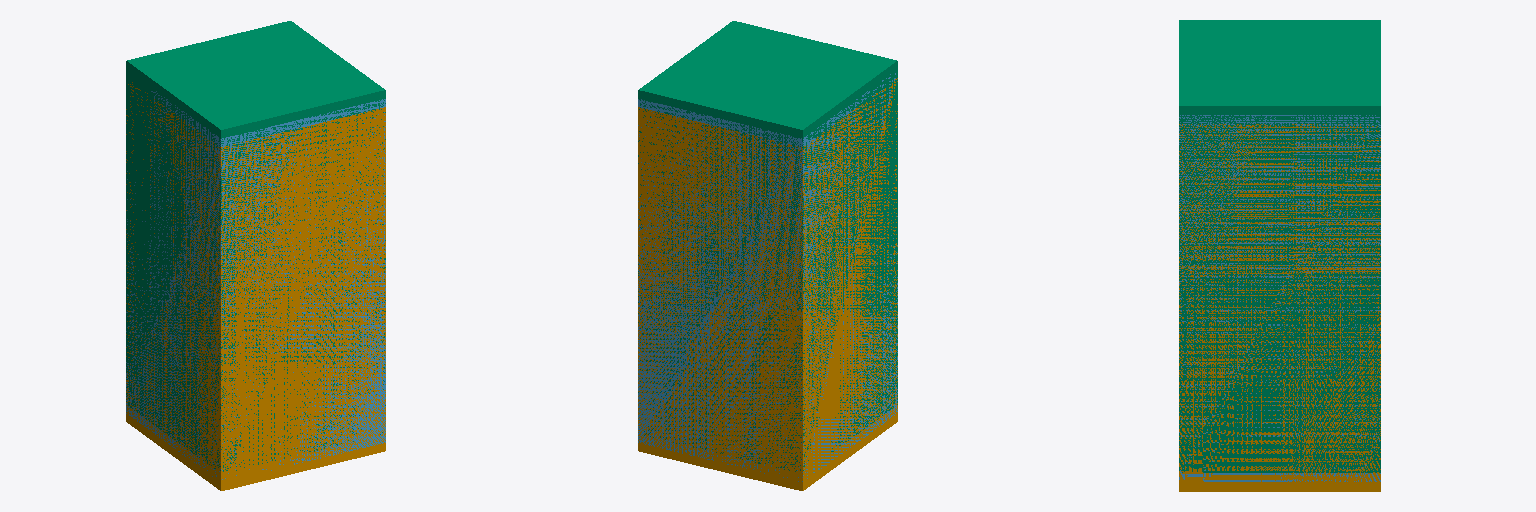
URDF robot description (simple_box):
<robot name="simple_box">

  <link name="base_link">
    <inertial>
      <origin xyz="2 0 0" />
      <mass value="1.0" />
      <inertia  ixx="1.0" ixy="0.0"  ixz="0.0"  iyy="100.0"  iyz="0.0"  izz="1.0" />
    </inertial>
    <visual>
      <origin xyz="2 0 1"/>
      <geometry>
        <box size="1 1 2" />
      </geometry>
    </visual>
    <collision>
      <origin xyz="2 0 1"/>
      <geometry>
        <box size="1 1 2" />
      </geometry>
    </collision>
  </link>
  <gazebo reference="my_box">
    <material>Gazebo/Blue</material>
  </gazebo>
  
  <link name="my_box2">
    <inertial>
      <origin xyz="2 0 0" />
      <mass value="1.0" />
      <inertia  ixx="1.0" ixy="0.0"  ixz="0.0"  iyy="100.0"  iyz="0.0"  izz="1.0" />
    </inertial>
    <visual>
      <origin xyz="2 0 1"/>
      <geometry>
        <box size="1 1 2" />
      </geometry>
    </visual>
    <collision>
      <origin xyz="2 0 1"/>
      <geometry>
        <box size="1 1 2" />
      </geometry>
    </collision>
  </link>
  <gazebo reference="my_box2">
    <material>Gazebo/Blue</material>
  </gazebo> 

  <link name="my_box3">
    <inertial>
      <origin xyz="2 0 0" />
      <mass value="1.0" />
      <inertia  ixx="1.0" ixy="0.0"  ixz="0.0"  iyy="100.0"  iyz="0.0"  izz="1.0" />
    </inertial>
    <visual>
      <origin xyz="2 0 1"/>
      <geometry>
        <box size="1 1 2" />
      </geometry>
    </visual>
    <collision>
      <origin xyz="2 0 1"/>
      <geometry>
        <box size="1 1 2" />
      </geometry>
    </collision>
  </link>
  <gazebo reference="my_box3">
    <material>Gazebo/Blue</material>
  </gazebo>  
  
  <!-- Joints -->
  

  <joint name="box_joint" type="revolute">
    <parent link="base_link"/>
    <child link="my_box2"/>
    <origin xyz="0 0 0.05" rpy="0 0 0"/>
    <limit lower="-1.57" upper="1.57" effort="100.0" velocity="0.5"/>
  </joint>

  <joint name="box_joint2" type="revolute">
    <parent link="my_box2"/>
    <child link="my_box3"/>
    <origin xyz="0 0 0.05" rpy="0 0 0"/>
    <limit lower="-1.57" upper="1.57" effort="100.0" velocity="0.5"/>
  </joint>
  
</robot>

--- What the picture shows (computed from the rendered views, not written in the file) ---
Views: 3 orthographic renders of the robot side by side, from view 1: azimuth 30°, elevation 25°; view 2: azimuth 150°, elevation 25°; view 3: azimuth 270°, elevation 25°.
Model simple_box with 3 links and 2 joints (2 revolute), rooted at base_link, posed all joints at 0.
Links seen in each view (by area): view 1: base_link, my_box3, my_box2; view 2: base_link, my_box3, my_box2; view 3: my_box3, base_link, my_box2.
Link boxes in pixels (x1,y1,x2,y2): base_link: (126, 82, 385, 490); my_box3: (126, 21, 385, 471); my_box2: (126, 91, 385, 479); base_link: (638, 78, 897, 490); my_box3: (638, 21, 897, 471); my_box2: (638, 73, 897, 481); my_box3: (1179, 20, 1380, 472); base_link: (1179, 124, 1380, 491); my_box2: (1179, 115, 1380, 481).
Size in the robot's own frame: 1 by 1 by 2.1 metres.
Geometry: primitives only (box / cylinder / sphere), no mesh files.